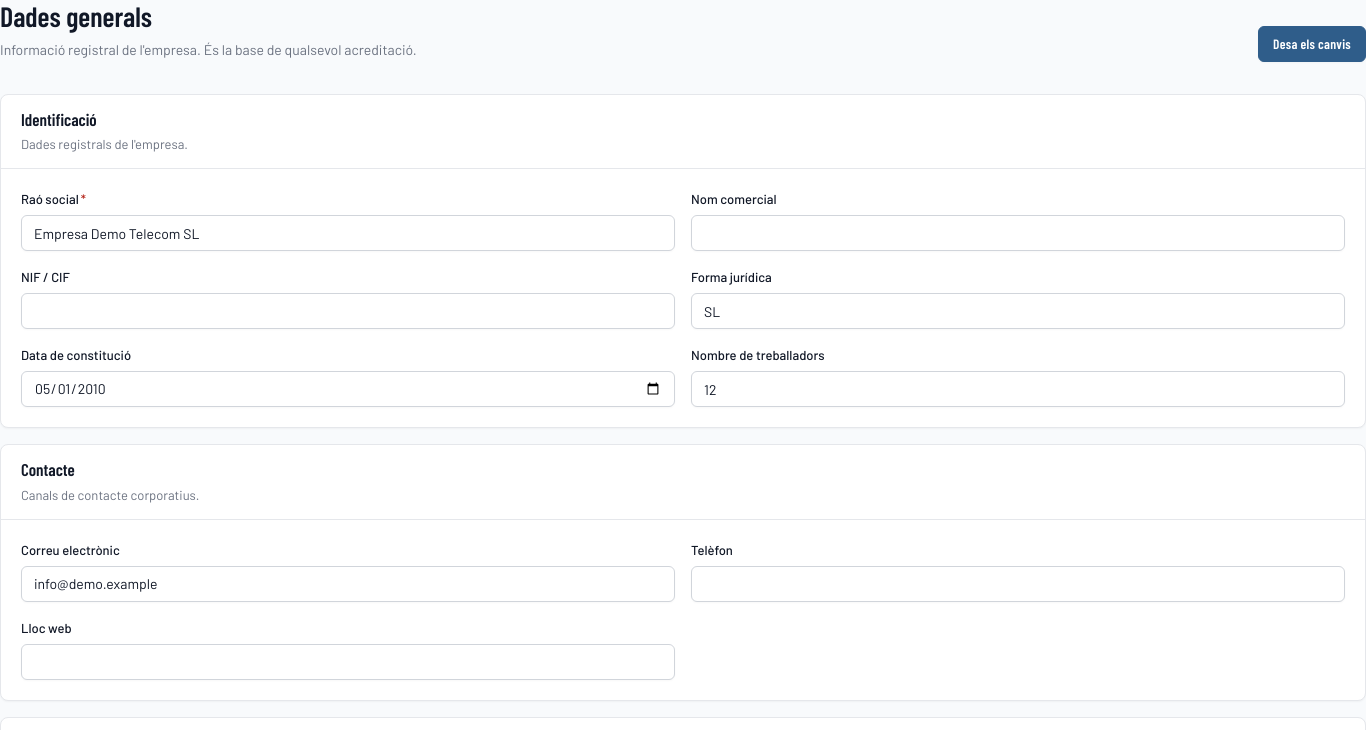
Test: Dades generals a /empresa/dades › els errors de camp continuen sortint al camp i no desactiven el botó
Expected: the field labelled "Nom comercial" is shown, [691,215,1345,251]
Click the button "Desa els canvis" at (1312, 44), box [1258,26,1365,62]
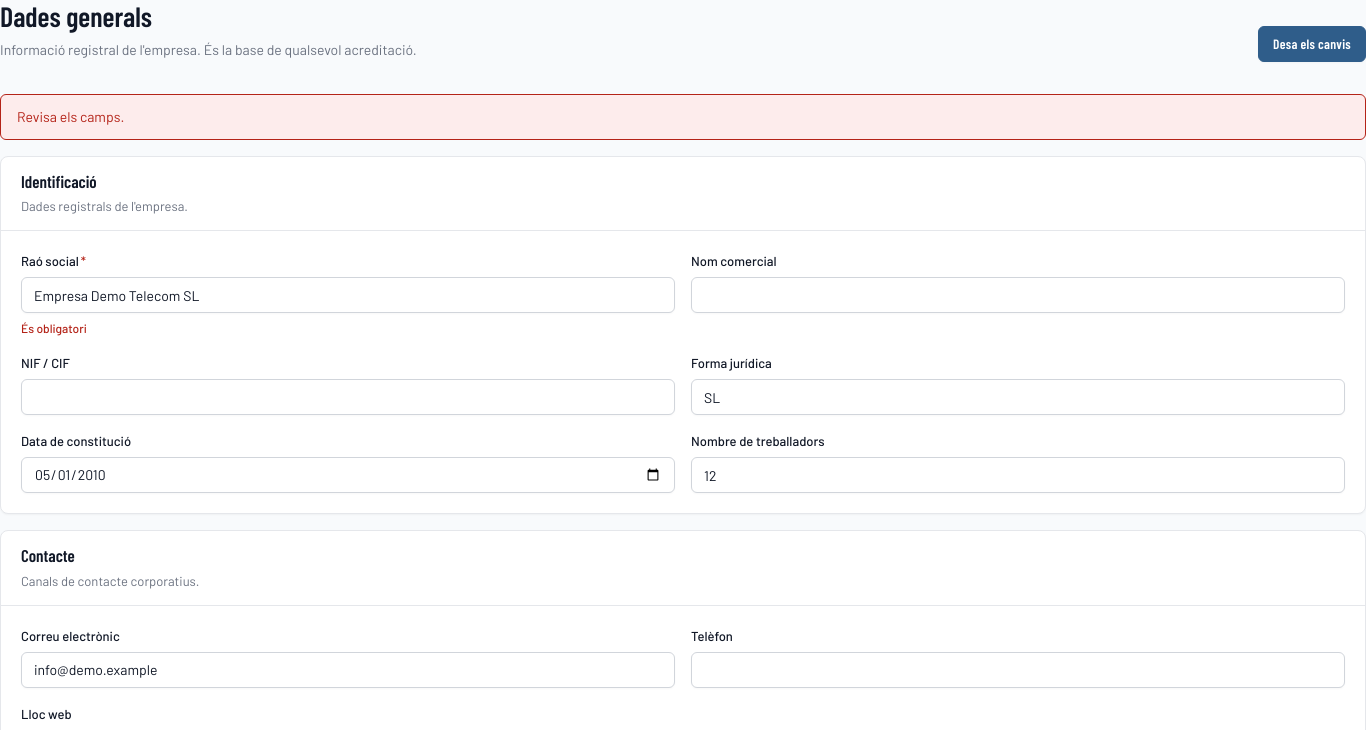
Expected: the text "És obligatori" is shown, [21,321,87,335]
